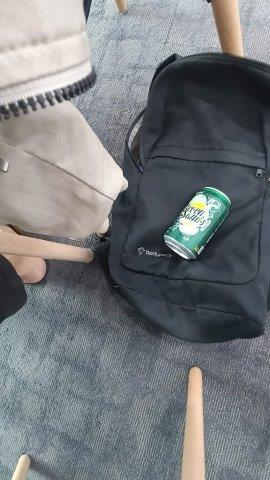kaleng: (164, 187, 231, 260)
